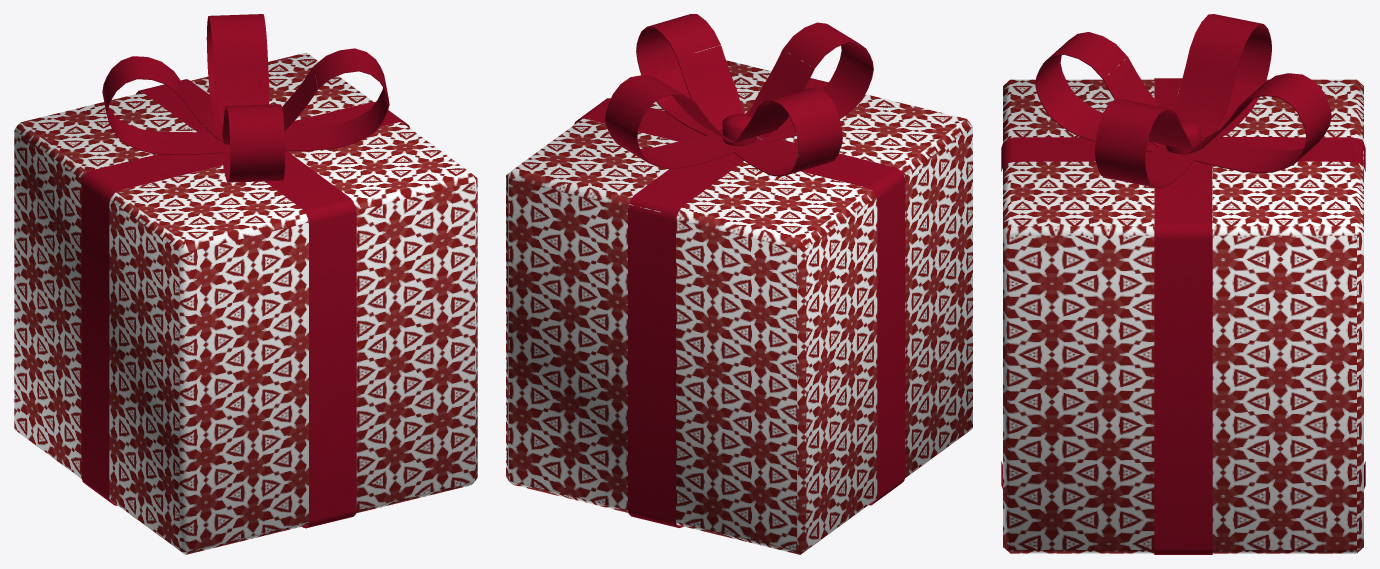
The model's file is present.glb.
3 renders of one model, left to right at view 1: azimuth 30°, elevation 25°; view 2: azimuth 150°, elevation 25°; view 3: azimuth 270°, elevation 25°, orthographic. The views are drawn at different scales.
Parts seen in each view (by area): view 1: christmas present; view 2: christmas present; view 3: christmas present.
Boxes of the visible parts, x1,y1,x2,y2 form: christmas present: [14, 14, 477, 554]; christmas present: [506, 14, 972, 554]; christmas present: [1001, 14, 1365, 554].
Bounding box in the file's own units: 40.39 × 51.28 × 40.29.
1 material, 1 textured.
